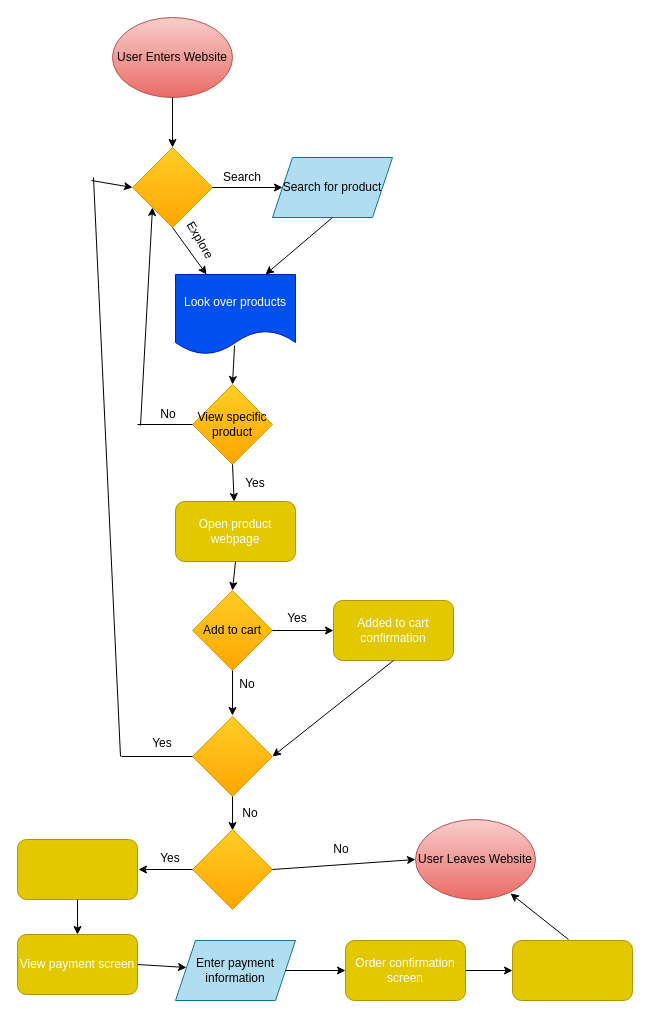
Some shapes in this 650 by 1018 pixel diagram are drawn without their labels. Here are the shapes that lost their labels. From the top down, the centre of each, then its label:
At [172,187]: "Search or Explore".
At [232,756]: "Continue Shopping".
At [77,869]: "View cart screen".
At [232,869]: "Checkout".
At [572,970]: "Send email".
